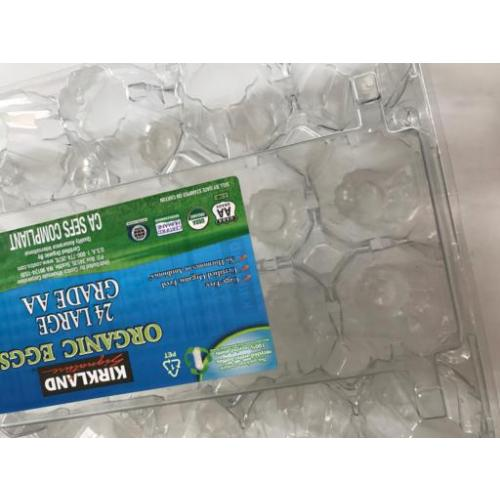plastic: (0, 61, 500, 435)
